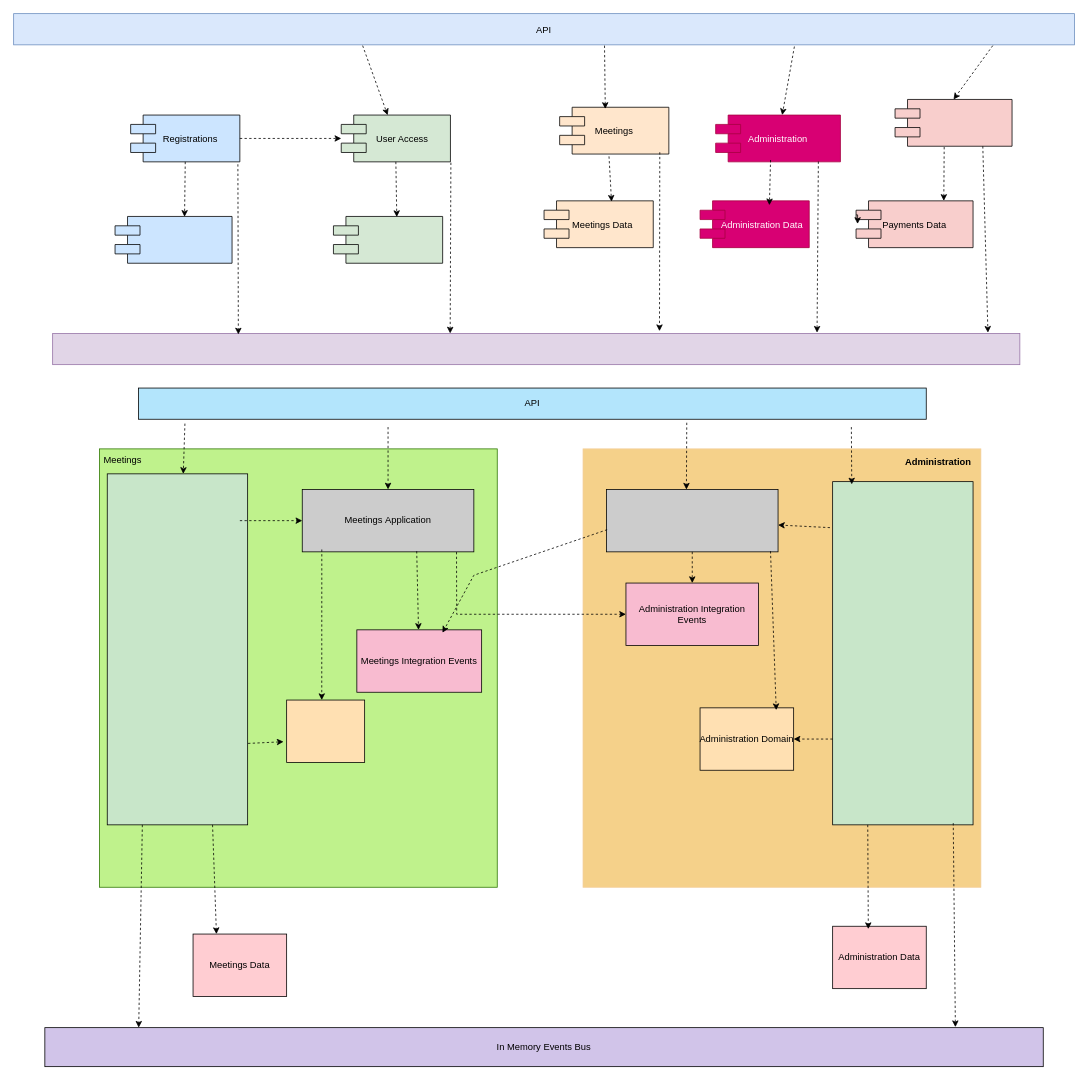
Some shapes in this 1088 by 1080 pixel diagram are drawn without their labels. The centre of each missing label's shape, as x and y in pixels:
"Administration Application" belongs at (x=692, y=520).
"Administration Infrastructure" belongs at (x=902, y=653).
"In-Memory Events Bus" belongs at (x=536, y=349).
"Meetings Domain" belongs at (x=325, y=730).
"Meetings Infrastructure" belongs at (x=177, y=649).
"Payments" belongs at (x=953, y=122).
"Registrations Data" belongs at (x=173, y=239).
"User Access Data" belongs at (x=388, y=239).
